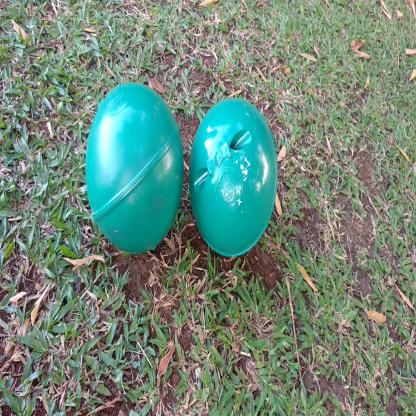green_buoy: (86, 78, 184, 258), (188, 92, 279, 258)
